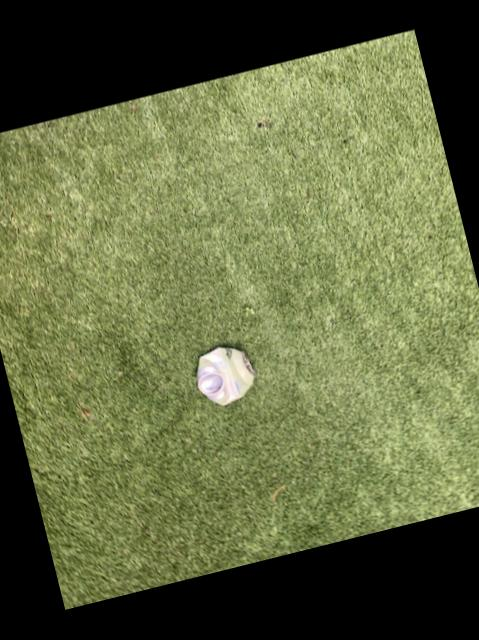metal: (198, 346, 255, 403)
